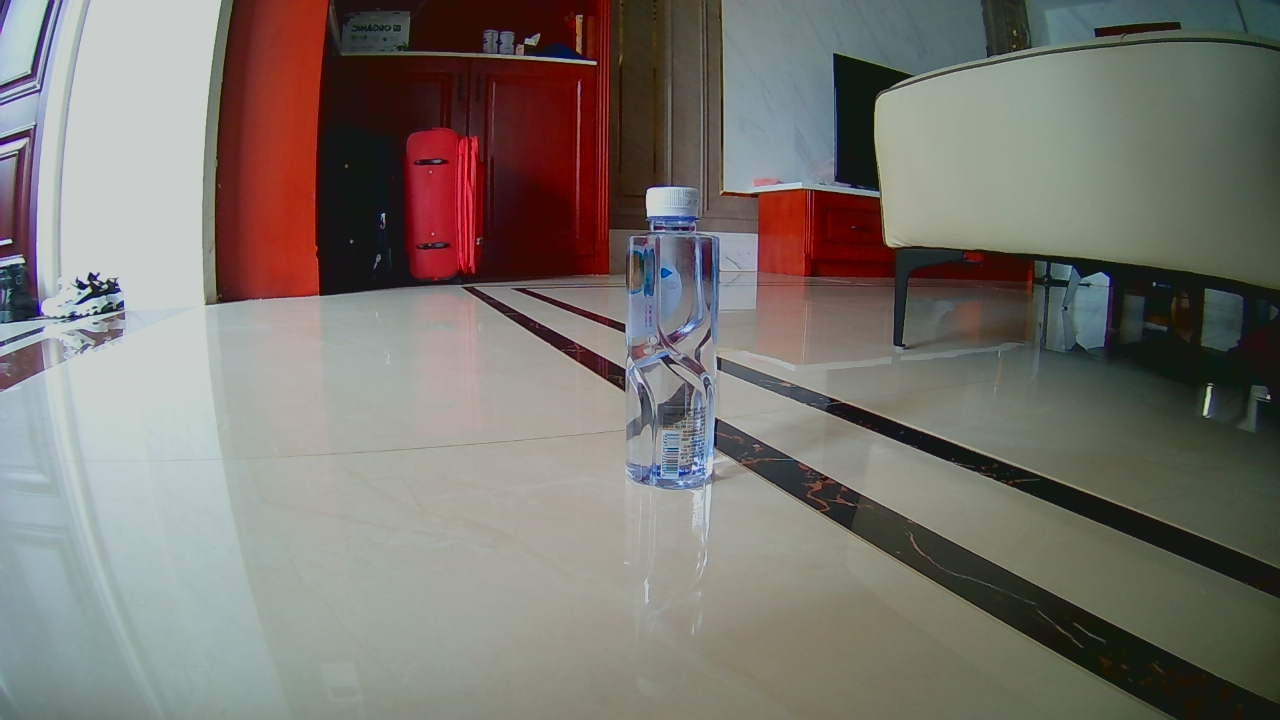water: (631, 194, 711, 485)
